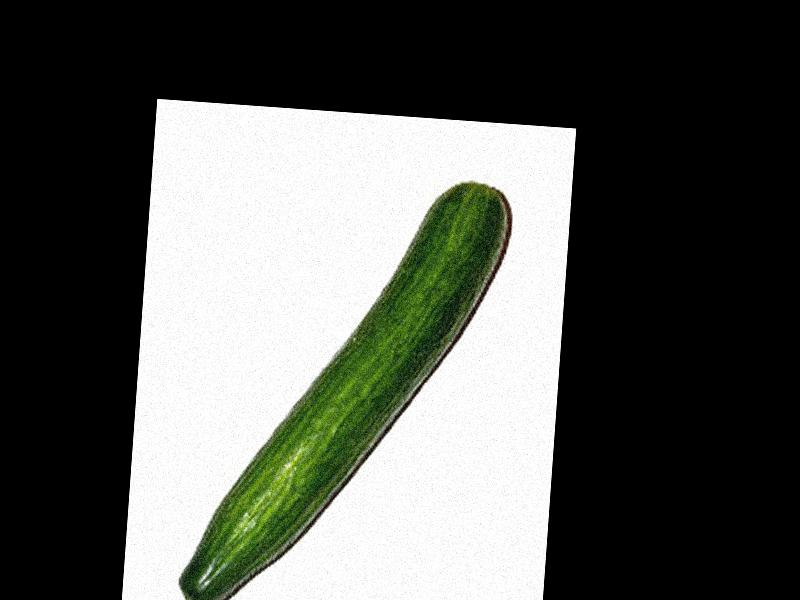Cucumber: (177, 163, 513, 600)
